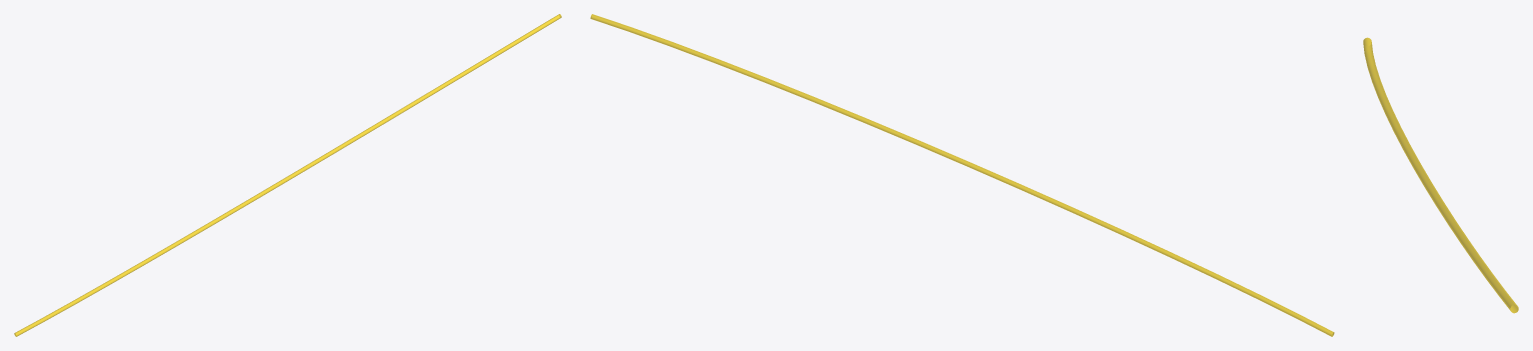
File: Event_31209032_track_11.fbx
The picture shows the model from 3 angles, left to right: view 1: azimuth 30°, elevation 25°; view 2: azimuth 150°, elevation 25°; view 3: azimuth 270°, elevation 25°; orthographic projection. The views are drawn at different scales.
Visible parts, largest first — view 1: Model; view 2: Model; view 3: Model.
Part boxes in pixels (<box>): Model: <box>14,14,561,336</box>; Model: <box>590,14,1334,336</box>; Model: <box>1363,37,1518,313</box>.
Bounding box in the file's own units: 6.2 × 1.57 × 0.7174.
